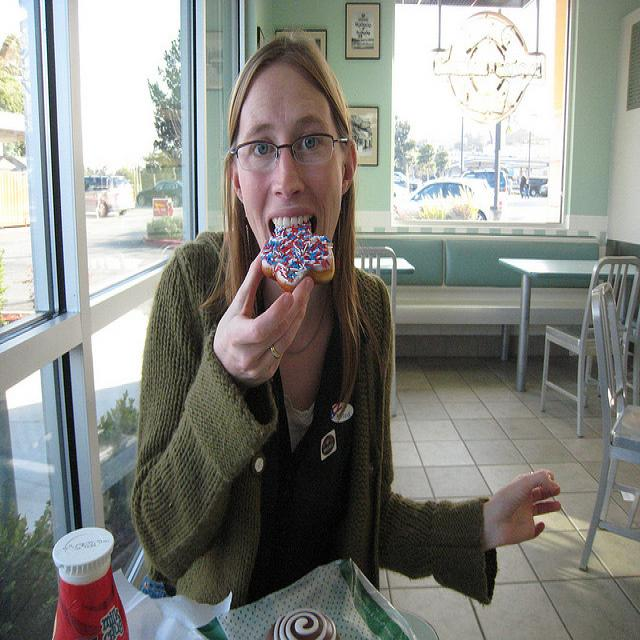chair: (539, 253, 639, 440), (582, 272, 640, 575), (354, 244, 398, 419)
dining table: (500, 257, 600, 393), (393, 607, 441, 640), (354, 256, 415, 275)
